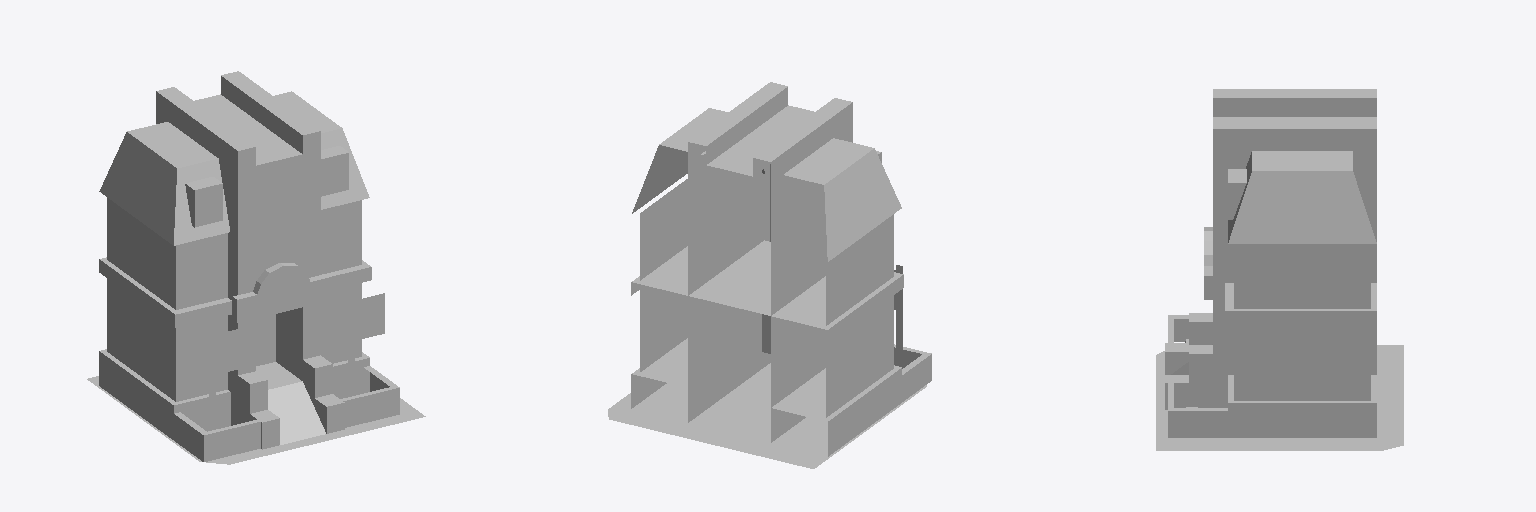
File: Trainers' School.obj
3 views of the same model, side by side, from view 1: azimuth 30°, elevation 25°; view 2: azimuth 150°, elevation 25°; view 3: azimuth 270°, elevation 25° (orthographic).
Parts seen in each view (by area): view 1: polygon4, polygon3, polygon0, polygon1; view 2: polygon4, polygon3, polygon1; view 3: polygon3, polygon4, polygon1.
Part boxes in pixels (x1,y1,x2,y2): polygon4: (99,71,399,461); polygon3: (99,91,369,401); polygon0: (216,293,384,374); polygon1: (87,376,425,464); polygon4: (631,82,931,456); polygon3: (632,105,901,417); polygon1: (608,363,926,468); polygon3: (1213,117,1376,400); polygon4: (1165,89,1376,437); polygon1: (1156,345,1403,450).
Size of the model in its own units: 83.84 by 105 by 83.02.